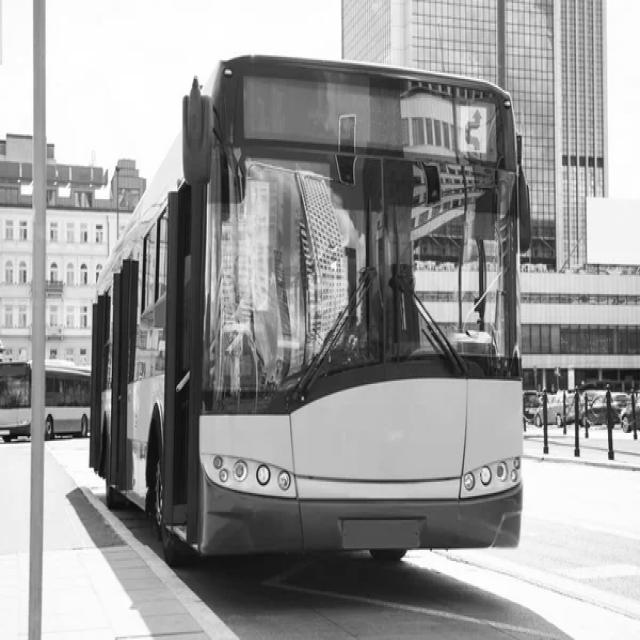Bus: (91, 55, 531, 562)
Pole: (18, 0, 56, 629)
